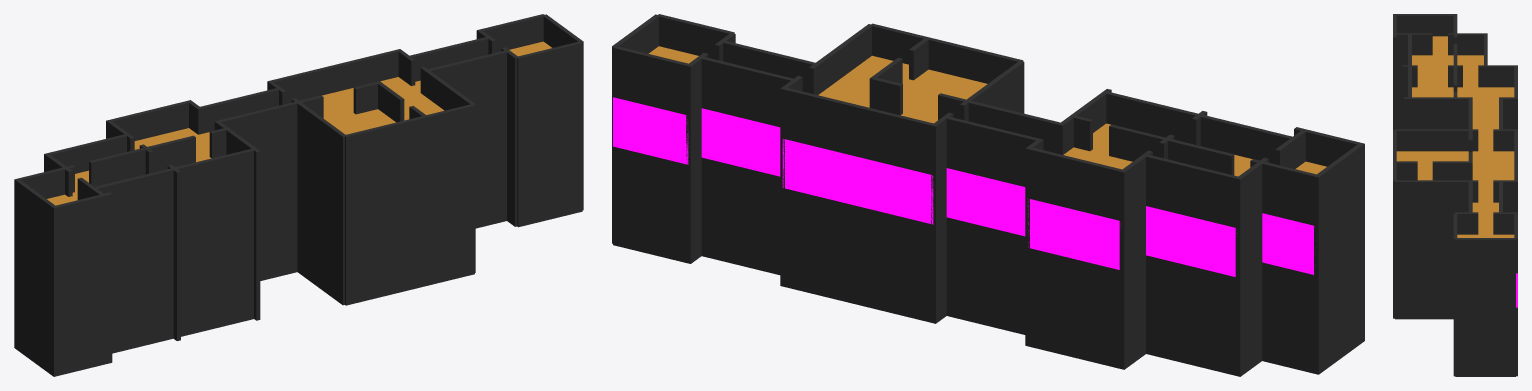
File: EntireLV2.fbx
3 views of the same model, side by side, from view 1: azimuth 30°, elevation 25°; view 2: azimuth 150°, elevation 25°; view 3: azimuth 270°, elevation 25° (orthographic). The views are drawn at different scales.
Parts seen in each view (by area): view 1: Wall__23__2, Wall__8__2, Wall__23__1, Wall__8__1, Wall__23_, Wall__1__2, Wall__8_, Wall__35__2, Wall__12__2, Wall__34__2, Wall__9_, Wall__18__2 (+36 smaller); view 2: Wall__9__1, Wall__20__1, Wall__28__1, Wall__17__1, Wall__4__3, Wall__9_, Wall__9__2, Wall_3, Wall__23__1, Wall__30__1, Wall__34__2, Wall__20_ (+42 smaller); view 3: Wall_4, Wall__7__2, Wall__7__1, Cube__7__1, Wall_2, Wall__22__1, Wall, Wall__7_, Wall__12__1, Cube__10__1, Cube__9__1, Wall__34__1 (+36 smaller).
Boxes of the visible parts, <box> form: Wall__23__2: <box>112,235,253,353</box>; Wall__8__2: <box>345,190,474,305</box>; Wall__23__1: <box>93,148,255,226</box>; Wall__8__1: <box>345,104,474,178</box>; Wall__23_: <box>112,192,253,269</box>; Wall__1__2: <box>517,127,582,227</box>; Wall__8_: <box>345,148,474,221</box>; Wall__35__2: <box>56,278,112,376</box>; Wall__12__2: <box>297,188,344,305</box>; Wall__34__2: <box>14,264,57,376</box>; Wall__9_: <box>269,49,399,103</box>; Wall__18__2: <box>260,188,297,280</box>; Wall__9__1: <box>782,188,933,322</box>; Wall__20__1: <box>1027,248,1119,368</box>; Wall__28__1: <box>1146,255,1237,376</box>; Wall__17__1: <box>946,217,1025,334</box>; Wall__4__3: <box>701,157,780,274</box>; Wall__9_: <box>783,87,935,174</box>; Wall__9__2: <box>782,139,933,224</box>; Wall_3: <box>613,146,688,262</box>; Wall__23__1: <box>1105,92,1292,163</box>; Wall__30__1: <box>1262,262,1316,373</box>; Wall__34__2: <box>1314,242,1364,374</box>; Wall__20_: <box>1027,147,1123,220</box>; Wall_4: <box>1455,308,1515,376</box>; Wall__7__2: <box>1395,250,1453,319</box>; Wall__7__1: <box>1395,180,1478,216</box>; Cube__7__1: <box>1396,150,1514,201</box>; Wall_2: <box>1455,238,1515,273</box>; Wall__22__1: <box>1404,97,1472,129</box>; Wall: <box>1455,274,1515,308</box>; Wall__7_: <box>1395,216,1453,250</box>; Wall__12__1: <box>1395,129,1478,151</box>; Cube__10__1: <box>1412,54,1483,86</box>; Cube__9__1: <box>1412,86,1514,118</box>; Wall__34__1: <box>1393,14,1457,36</box>.
Size of the model in its own units: 7050 by 2000 by 1650.
